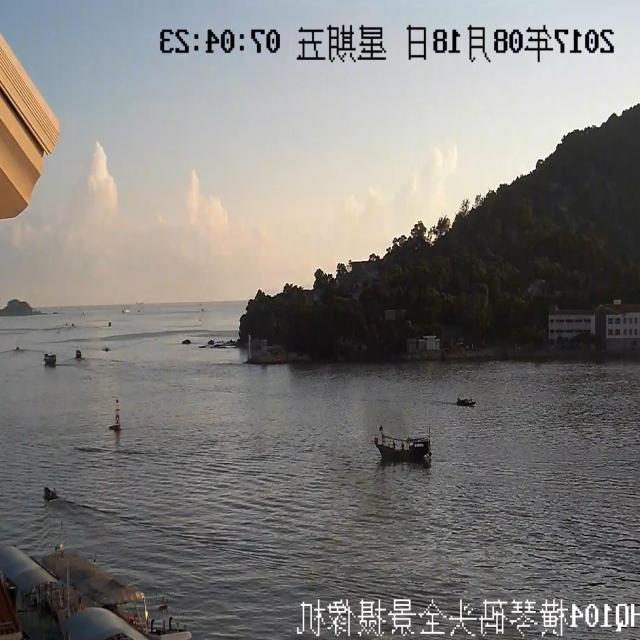buoy: (107, 394, 144, 436)
fishing boat: (365, 413, 445, 481), (444, 382, 482, 419)
reef: (0, 278, 47, 330)
